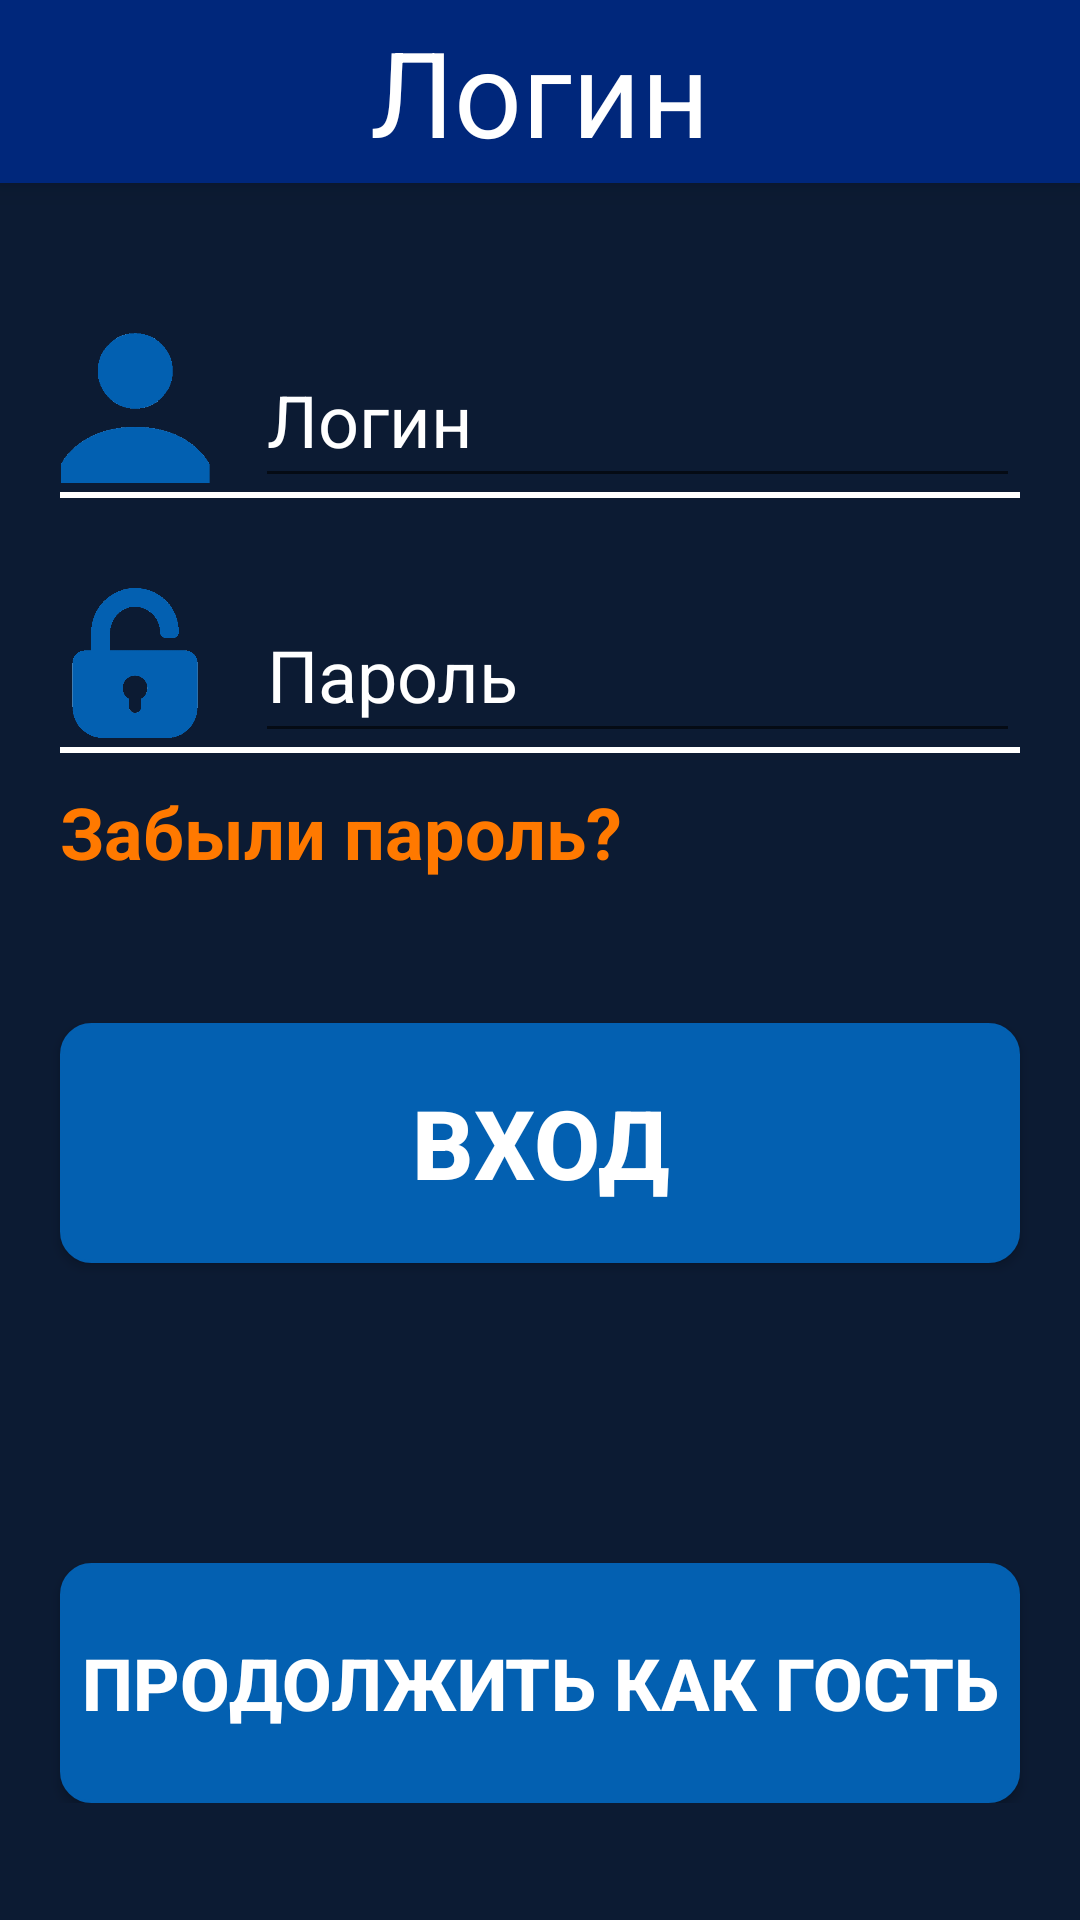

Named icons in this screenshot (1080px×1920px) and their bounding boxes, [x1, y1, x2, y2]:
loginicon: [61, 333, 210, 483]
passwordicon: [72, 588, 198, 738]
